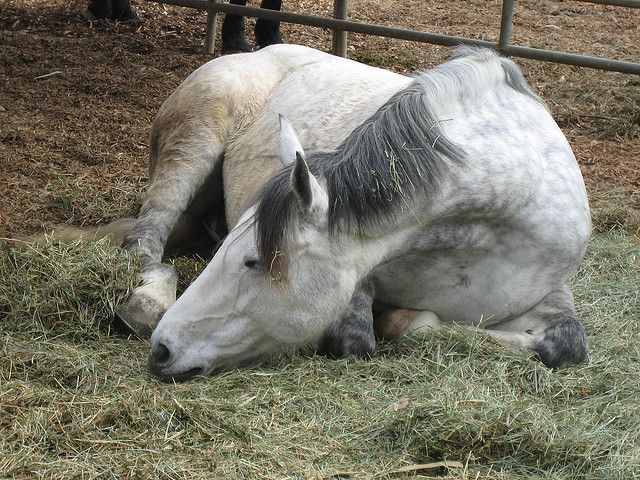Horse: (130, 29, 603, 376)
